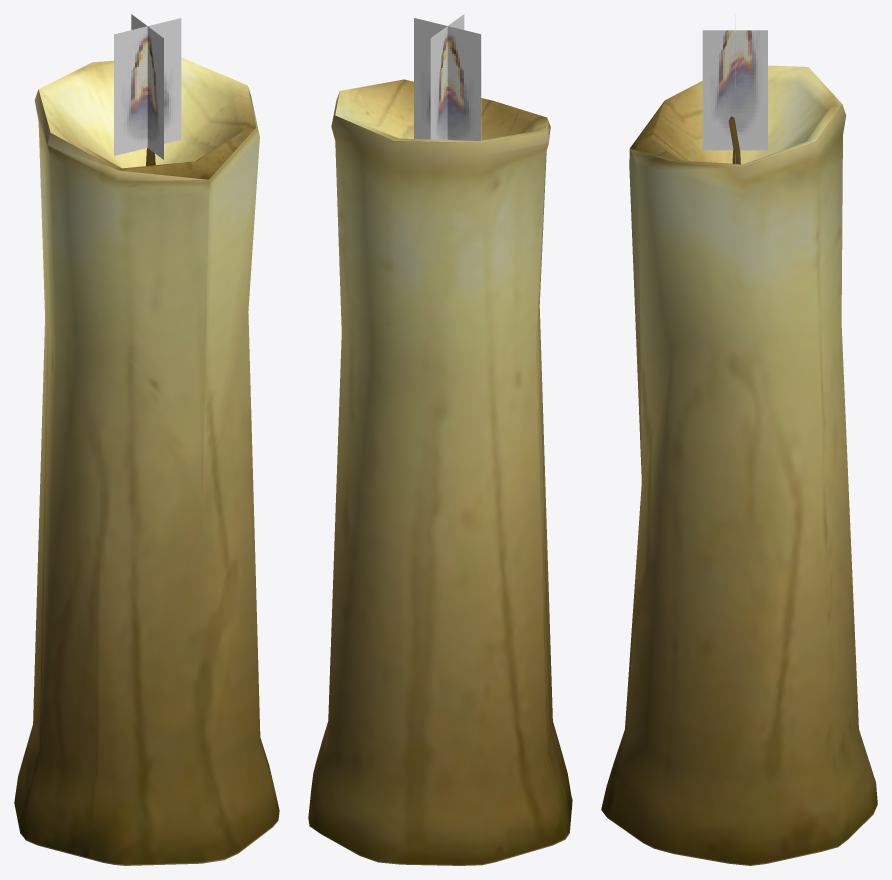
File: candle.fbx
The picture shows the model from 3 angles, left to right: view 1: azimuth 30°, elevation 25°; view 2: azimuth 150°, elevation 25°; view 3: azimuth 270°, elevation 25°; orthographic projection.
Visible parts, largest first — view 1: Mesh Object; view 2: Mesh Object; view 3: Mesh Object.
Boxes of the visible parts, x1,y1,x2,y2 form: Mesh Object: (14,14,279,865); Mesh Object: (308,14,572,865); Mesh Object: (601,14,877,865).
Bounding box in the file's own units: 0.1023 × 0.3133 × 0.1013.
